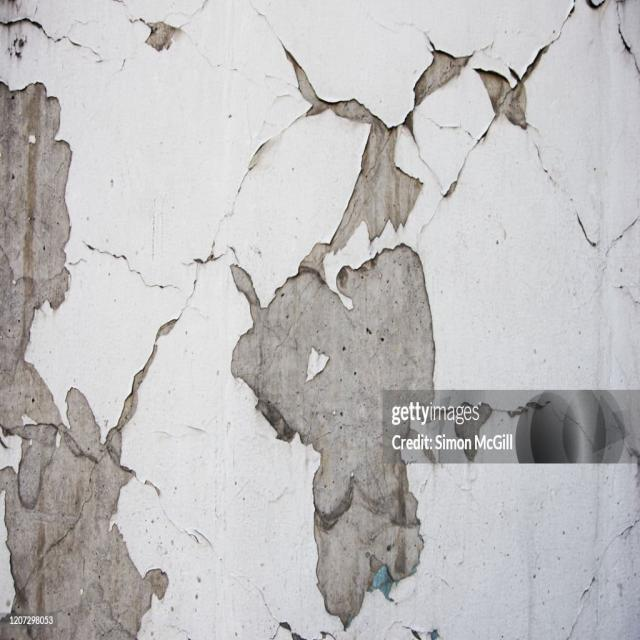Paint peeling: (214, 41, 538, 637), (9, 75, 165, 626)
